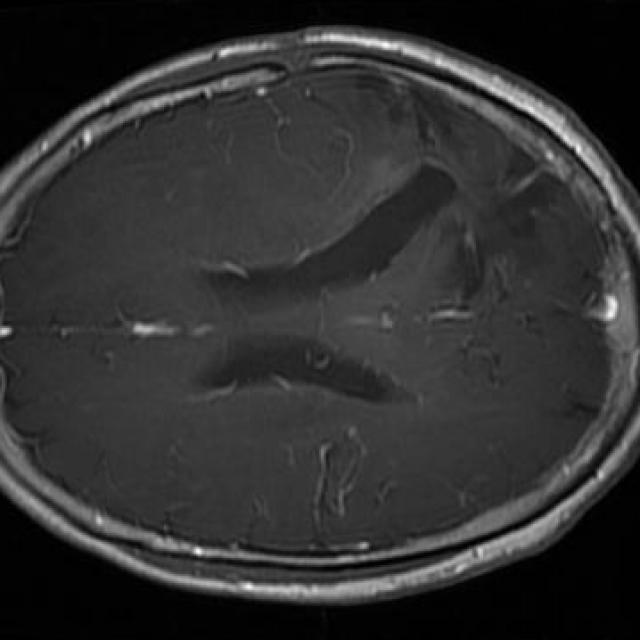glioma: (310, 78, 546, 316)
